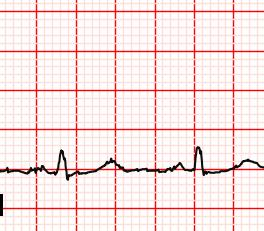LVH: (226, 154, 264, 176), (90, 153, 132, 172)
Poor R Progression: (53, 148, 71, 180), (191, 144, 207, 178)
